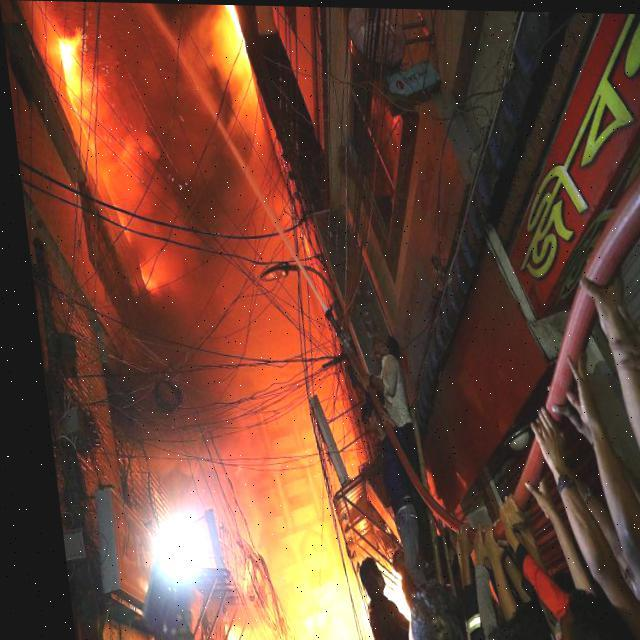Fire: (54, 2, 373, 546)
